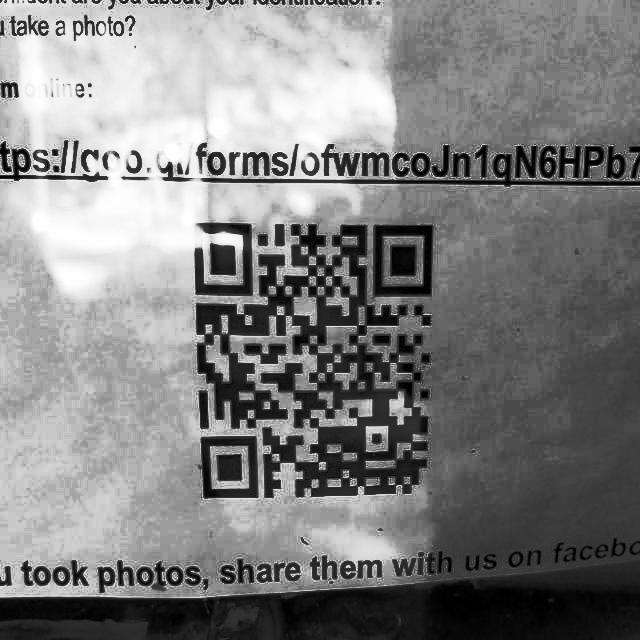qr_code: (182, 192, 444, 530)
